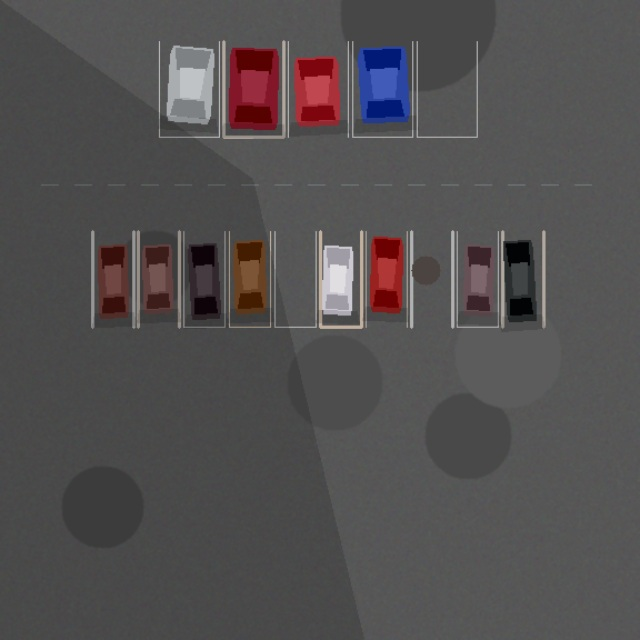space-empty: (417, 41, 477, 137), (274, 231, 316, 327), (411, 231, 452, 327)
space-occupied: (159, 41, 219, 137), (223, 41, 283, 137), (288, 41, 348, 137), (352, 41, 412, 137), (92, 231, 133, 327), (138, 231, 179, 327), (183, 231, 224, 327), (229, 231, 270, 327), (320, 231, 361, 327), (366, 231, 407, 327), (457, 231, 498, 327), (502, 231, 543, 327)
